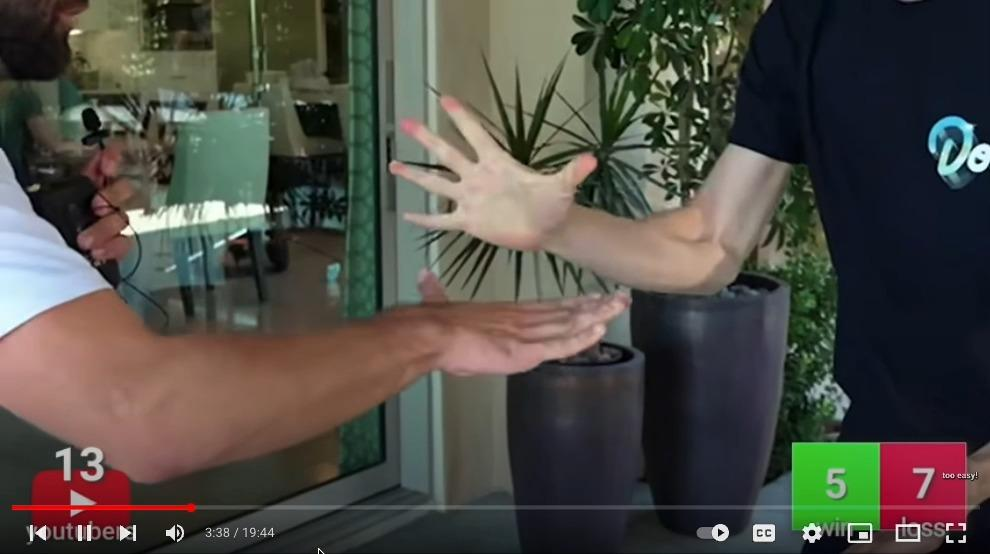Paper: (391, 96, 600, 254), (396, 270, 631, 377)
